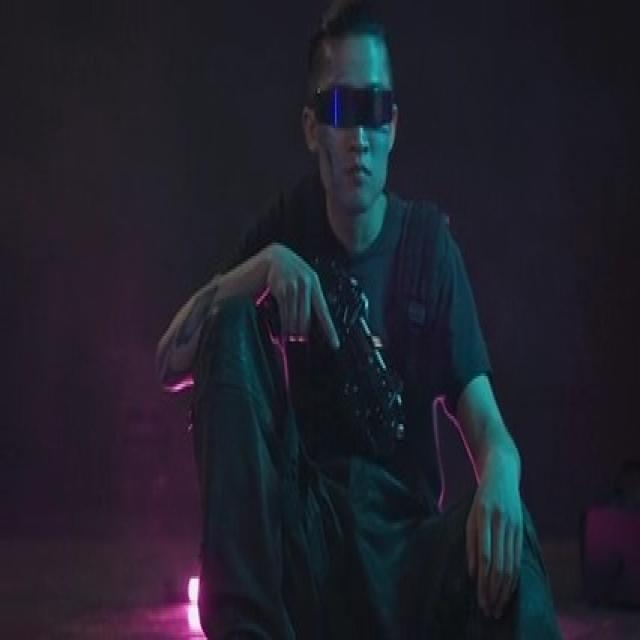Gun_Holder: (275, 260, 425, 462)
Person: (155, 2, 551, 640)
